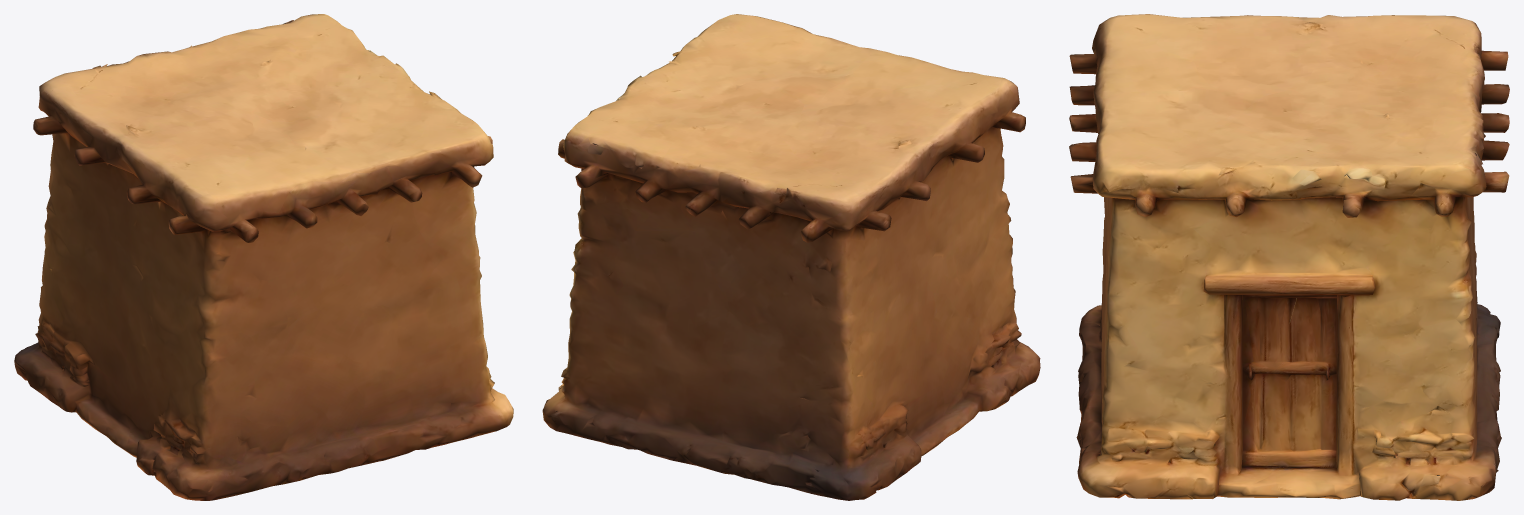
File: house.glb
3 renders of one model, left to right at view 1: azimuth 30°, elevation 25°; view 2: azimuth 150°, elevation 25°; view 3: azimuth 270°, elevation 25°, orthographic. The views are drawn at different scales.
Visible parts, largest first — view 1: tripo_node_f5cb684f-0173-49cb-9ea2-de604779c0c6; view 2: tripo_node_f5cb684f-0173-49cb-9ea2-de604779c0c6; view 3: tripo_node_f5cb684f-0173-49cb-9ea2-de604779c0c6.
Part boxes in pixels (left/top/right/bottom): tripo_node_f5cb684f-0173-49cb-9ea2-de604779c0c6: left=14, top=14, right=513, bottom=500; tripo_node_f5cb684f-0173-49cb-9ea2-de604779c0c6: left=542, top=14, right=1040, bottom=500; tripo_node_f5cb684f-0173-49cb-9ea2-de604779c0c6: left=1069, top=14, right=1509, bottom=500.
Bounding box in the file's own units: 0.9718 × 0.814 × 1.
Materials: 1 (1 with a texture image).
